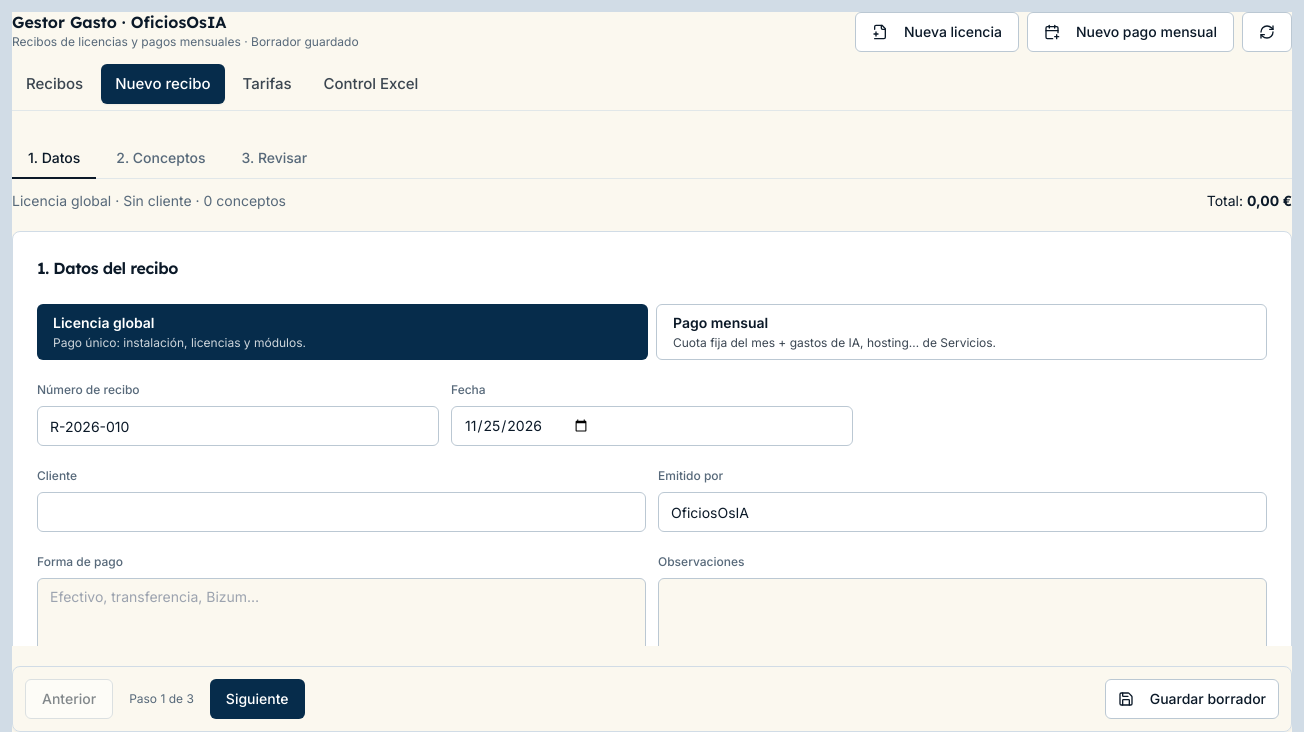
it: editor de recibos › el descuento de cada concepto y el global se ponen en el paso de conceptos y bajan el total
Click the button "2. Conceptos" at [161, 159], box x1=100 y1=139 x2=222 y2=179
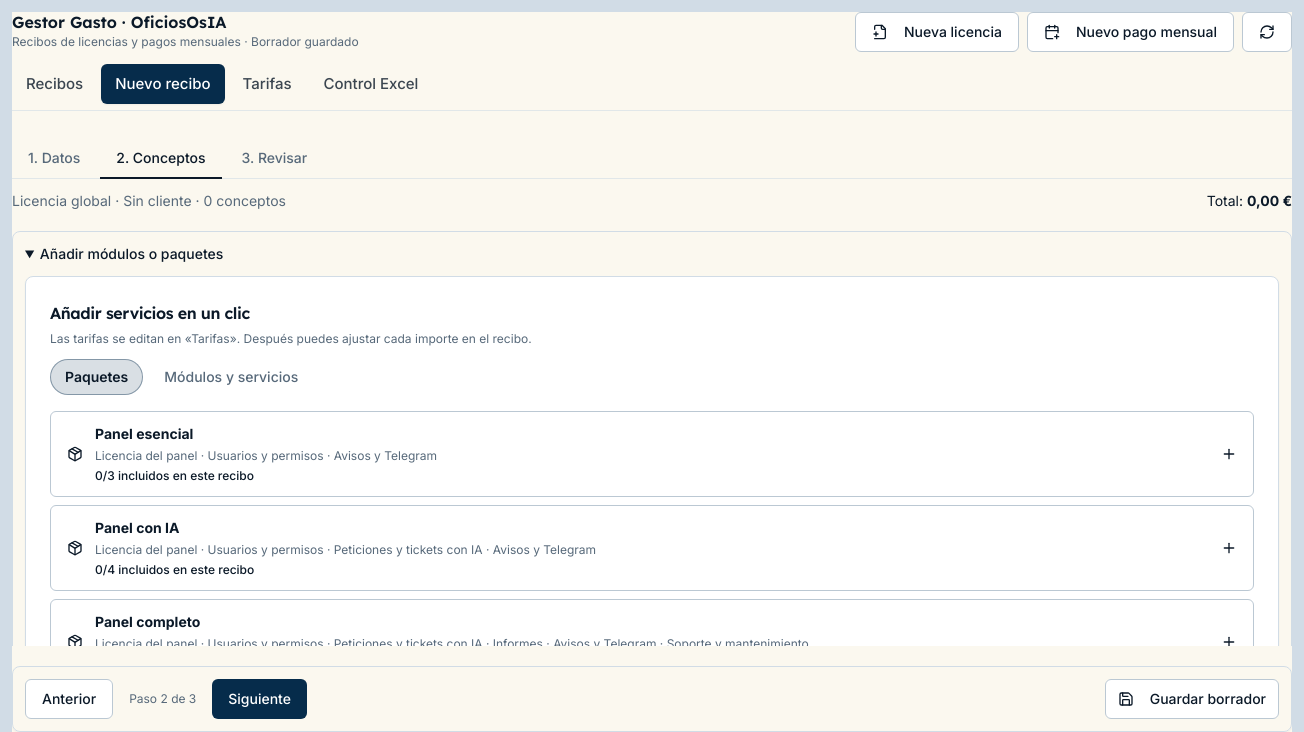
Click the button "Panel esencial" at [144, 434], box x1=50 y1=411 x2=1254 y2=497
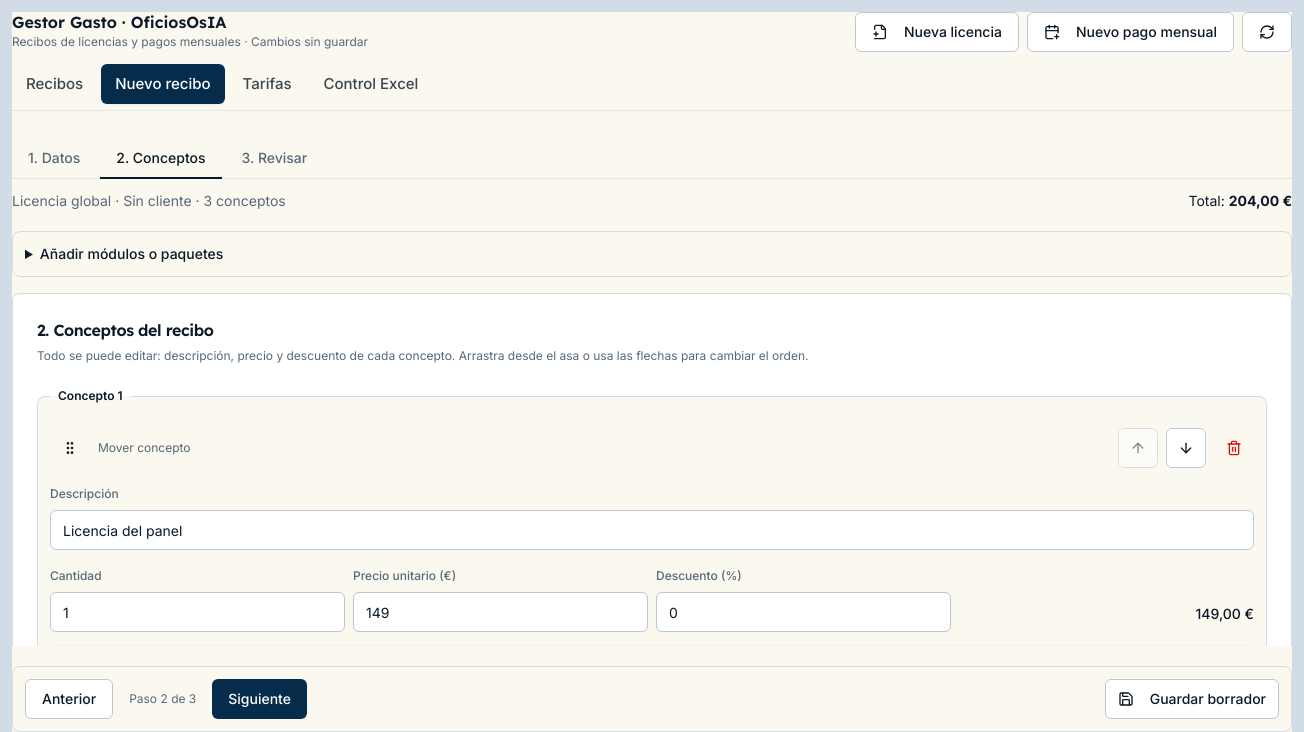
Replace the text in the number field labelled "Descuento (%)" with "50" at [804, 612], box x1=656 y1=592 x2=951 y2=632
(page scrolled)
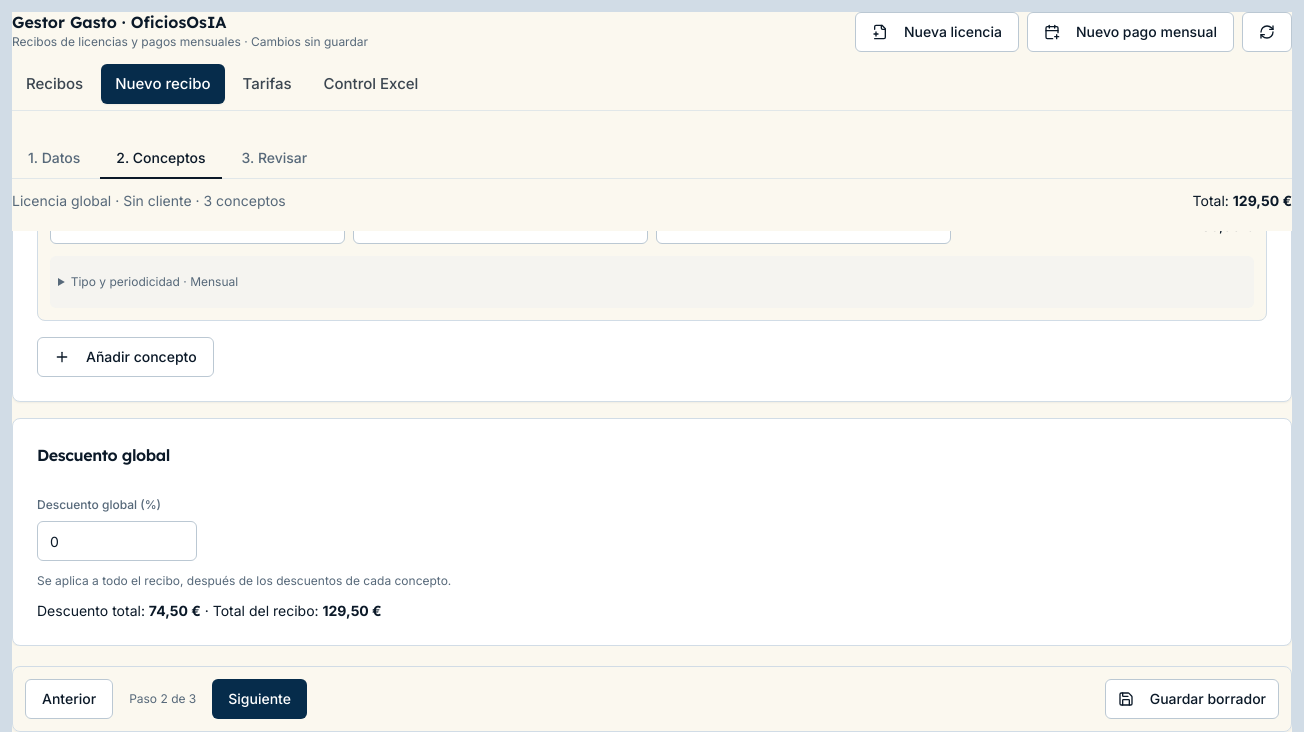
Replace the text in the number field labelled "Descuento global (%)" with "10" at [117, 541], box x1=37 y1=521 x2=197 y2=561
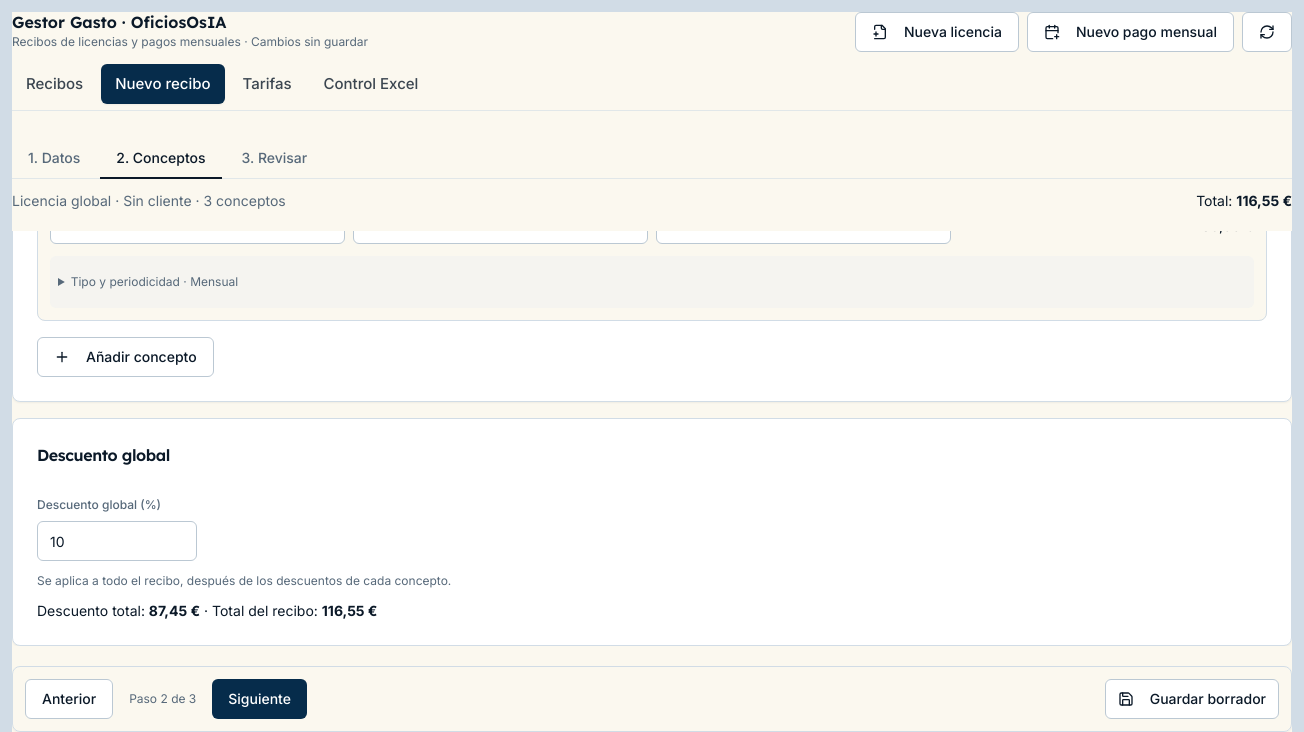
Expected: the text "Total:" shows "116,55", x1=1236 y1=192 x2=1292 y2=209
